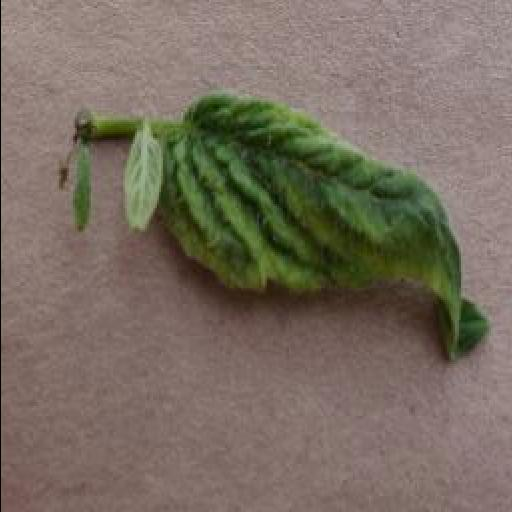disease_tomato: (165, 92, 491, 366)
